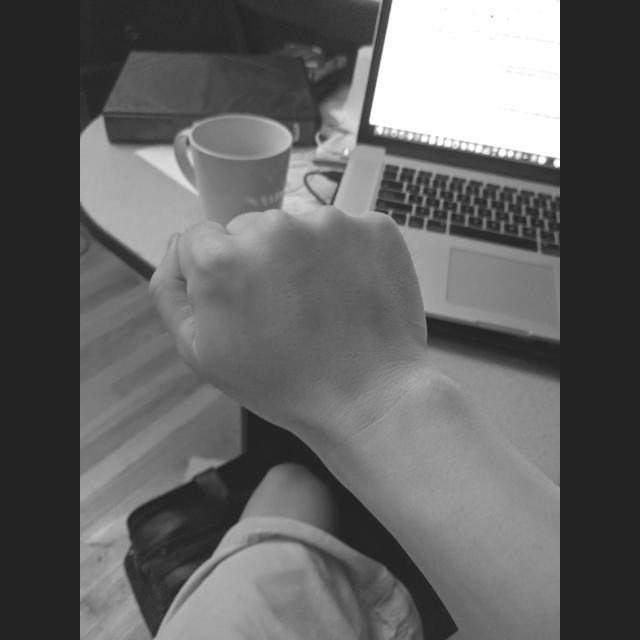A: (143, 197, 440, 429)
